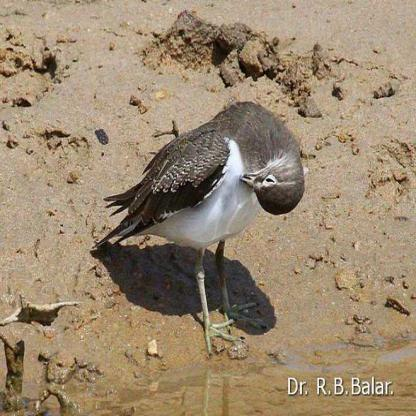Burung: (91, 102, 306, 358)
